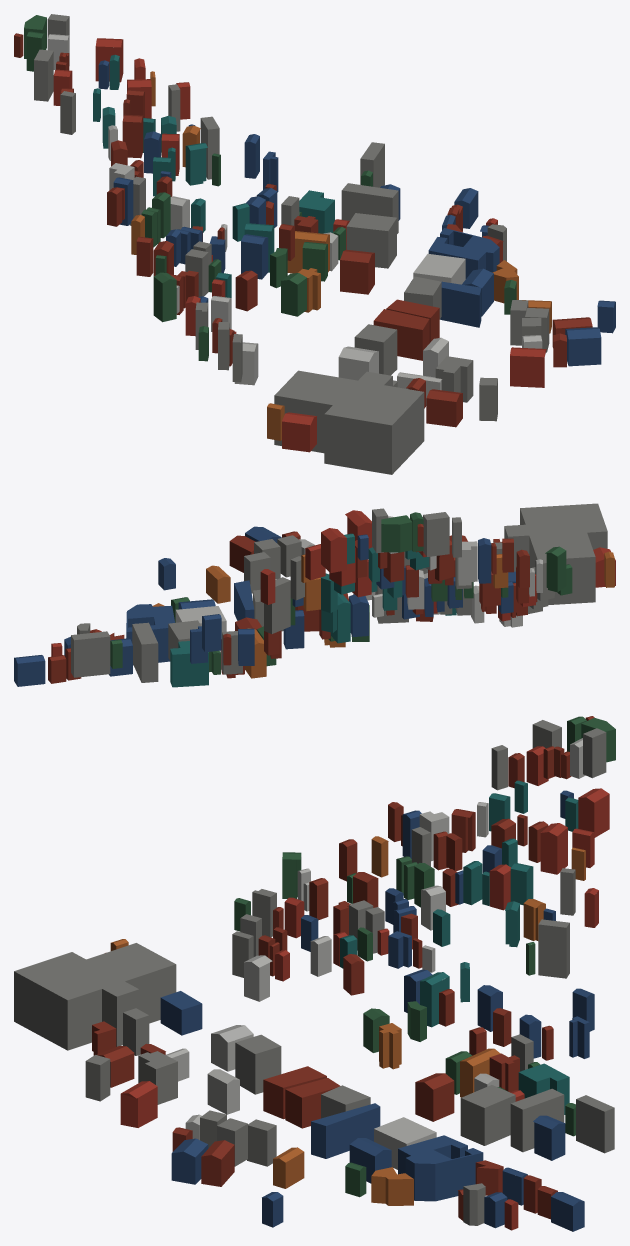
Rendered from near-17-109443-59470.cdbad3c2.glb.
3 views of the same model, one above another, from view 1: azimuth 30°, elevation 25°; view 2: azimuth 150°, elevation 25°; view 3: azimuth 270°, elevation 25° (orthographic). The views are drawn at different scales.
Bounding box in the file's own units: 307 × 189 × 343.
